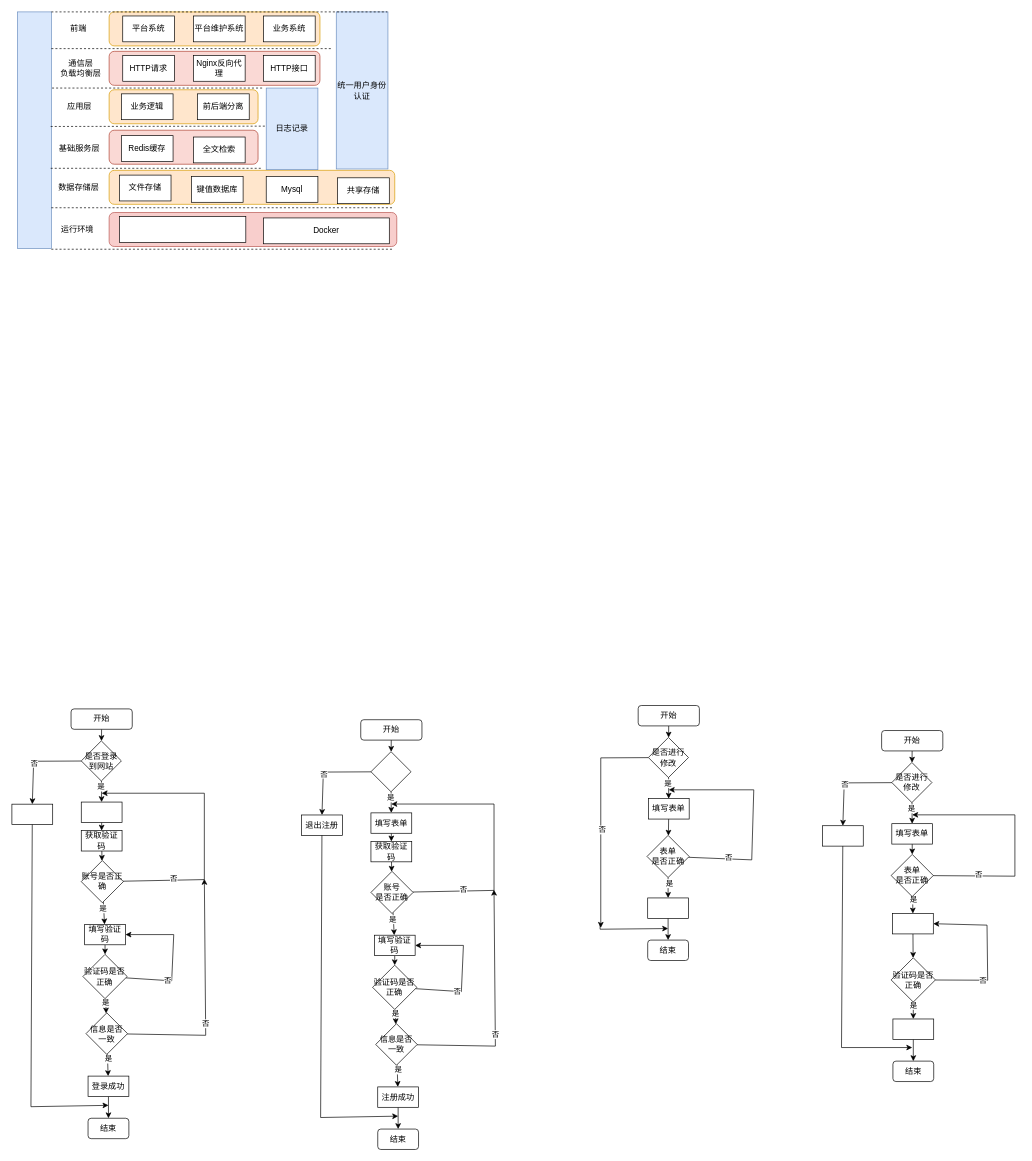
The diagram is 1032 pixels wide and 1161 high, and some of its shapes have lost their labels. Here are the shapes that lost their labels. From the top down, the box of each, then its label:
(17, 11, 51, 249): 系 统 架 构
(119, 216, 246, 242): Linux
(370, 751, 411, 792): 是否进行注册
(11, 803, 53, 825): 退出登录
(81, 801, 122, 822): 填写账号和密码
(822, 825, 863, 846): 退出修改
(647, 897, 688, 918): 更新成功
(892, 913, 933, 934): 获取并填写验证码
(892, 1018, 934, 1039): 修改成功
